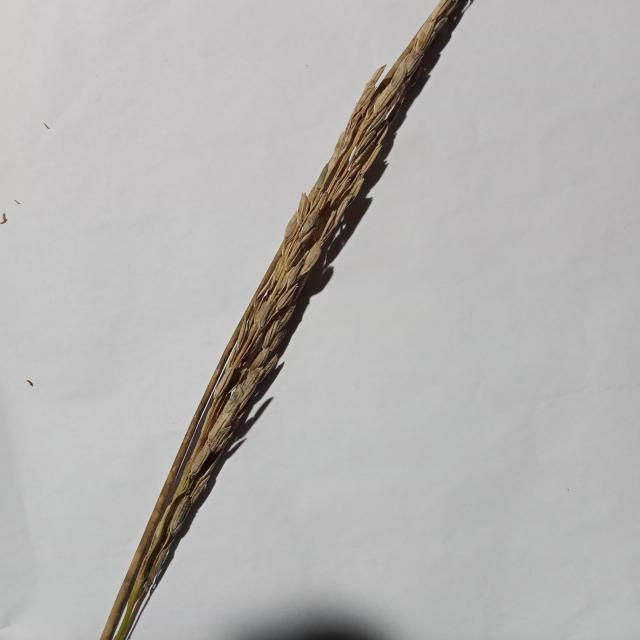Neck_Blast: (106, 0, 487, 640)
